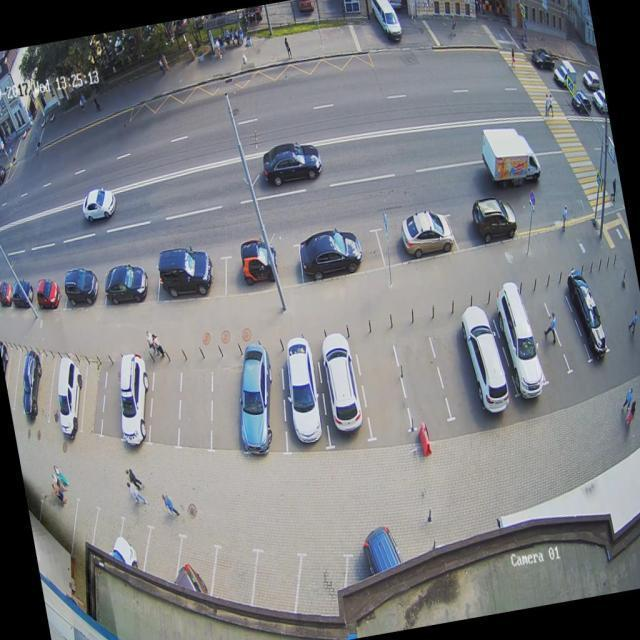car: (228, 350, 298, 458), (450, 299, 514, 417), (308, 334, 371, 452), (486, 293, 550, 407), (273, 343, 334, 458), (391, 327, 449, 437), (108, 360, 172, 450), (376, 212, 460, 266), (225, 242, 303, 300), (568, 274, 610, 374), (304, 232, 384, 282), (50, 358, 97, 440), (12, 347, 60, 427), (158, 253, 228, 305), (448, 197, 514, 251), (59, 270, 110, 316), (107, 268, 162, 304), (31, 282, 68, 313)
free: (353, 329, 411, 444), (196, 352, 258, 452), (426, 322, 486, 422), (511, 286, 568, 386), (166, 353, 226, 448), (135, 355, 196, 446), (65, 358, 123, 448), (540, 286, 594, 376), (90, 357, 136, 440), (0, 344, 46, 424), (38, 358, 78, 440), (25, 360, 63, 427), (0, 342, 31, 420)
